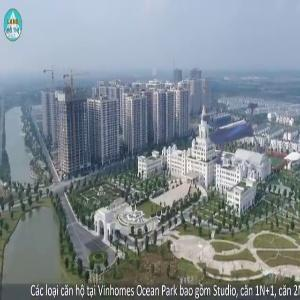drone: (179, 78, 286, 185)
